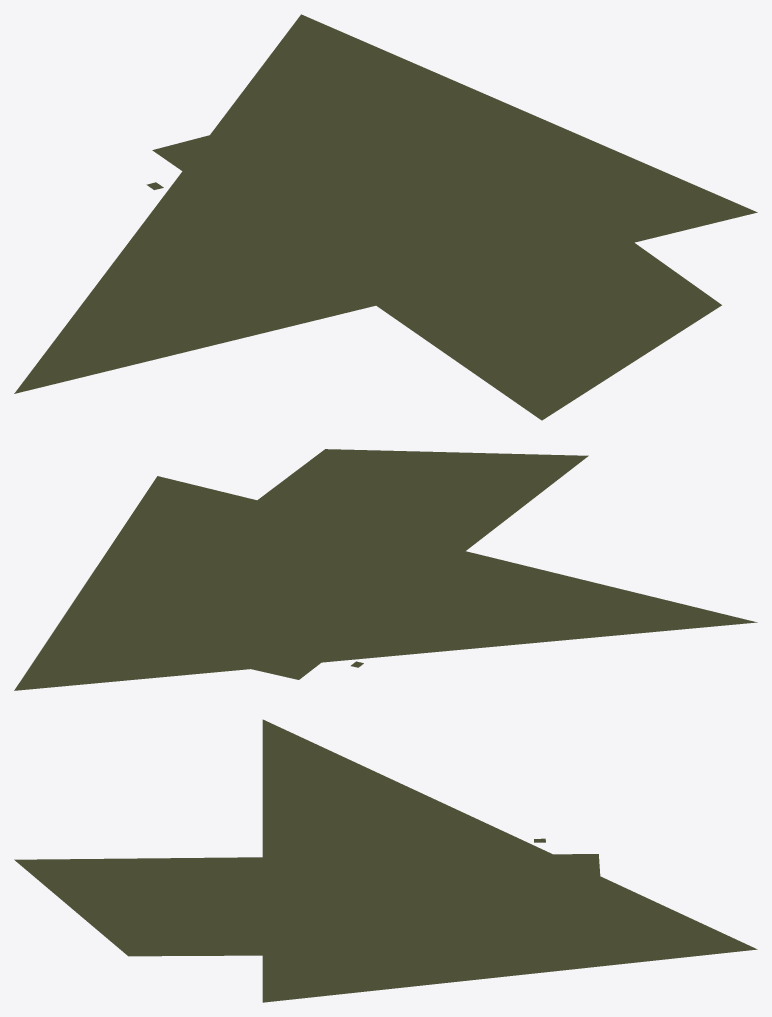
3 views of the same model, one above another, from view 1: azimuth 30°, elevation 25°; view 2: azimuth 150°, elevation 25°; view 3: azimuth 270°, elevation 25° (orthographic). The views are drawn at different scales.
Parts seen in each view (by area): view 1: seat; view 2: seat; view 3: seat.
Boxes of the visible parts, left/top/right/bottom form: seat: left=14, top=14, right=757, bottom=420; seat: left=14, top=449, right=757, bottom=690; seat: left=14, top=719, right=757, bottom=1002.
Bounding box in the file's own units: 15.03 × 3.7e-15 × 16.67.
